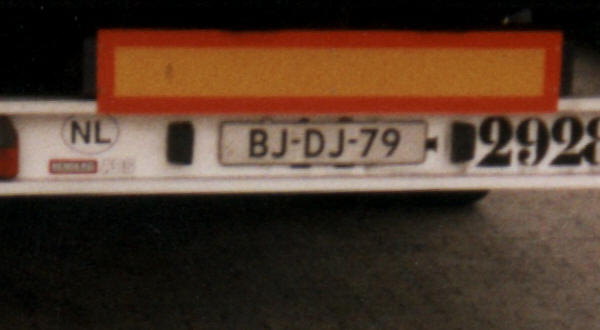license_plate: (219, 120, 429, 164)
